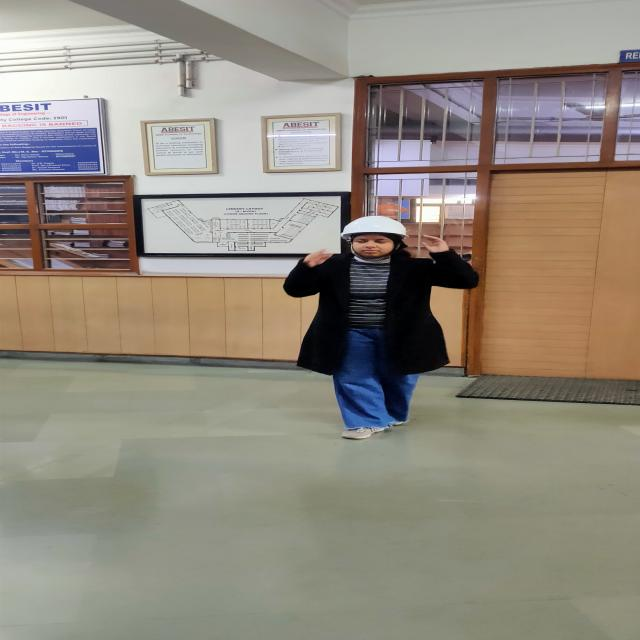no jacket: (283, 215, 479, 438)
